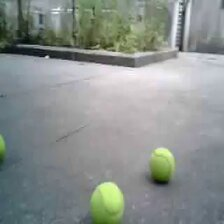tennis: (89, 183, 124, 224), (149, 145, 174, 182)
